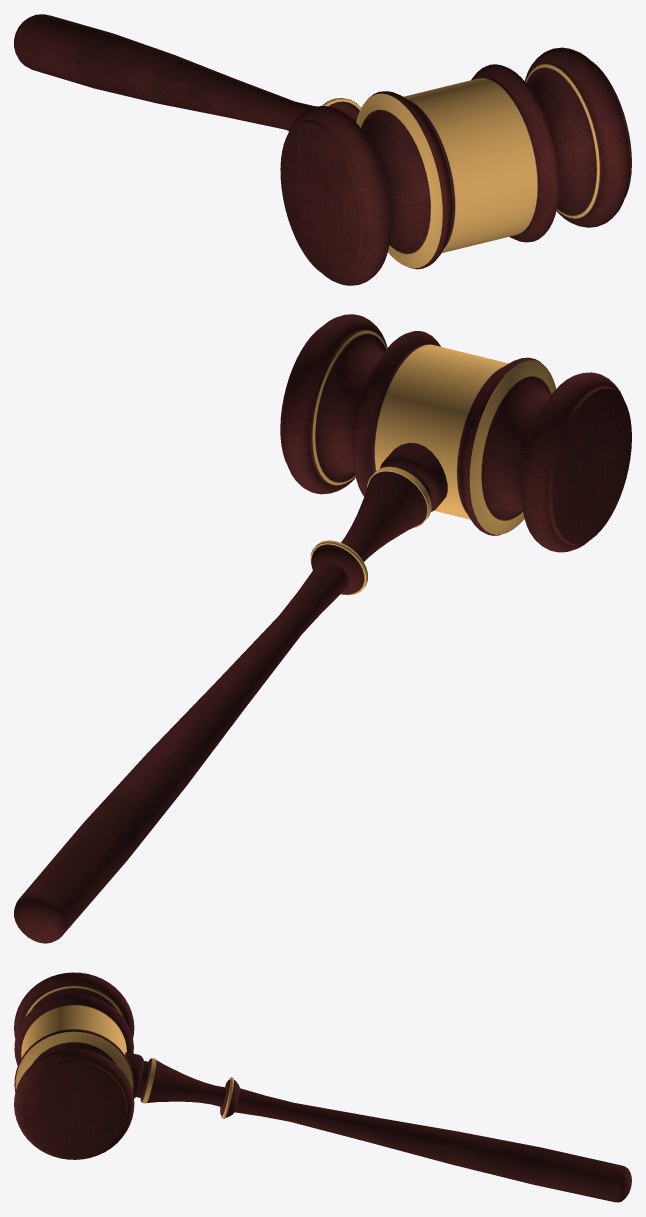
File: judges_gavel.obj
The picture shows the model from 3 angles, top to bottom: view 1: azimuth 30°, elevation 25°; view 2: azimuth 150°, elevation 25°; view 3: azimuth 270°, elevation 25°; orthographic projection. The views are drawn at different scales.
Visible parts, largest first — view 1: obj1; view 2: obj1; view 3: obj1.
Boxes of the visible parts, <box> form: obj1: <box>14,14,631,285</box>; obj1: <box>14,314,631,943</box>; obj1: <box>14,972,631,1202</box>.
Size of the model in its own units: 0.4736 by 0.4623 by 1.37.
1 material, 1 textured.
